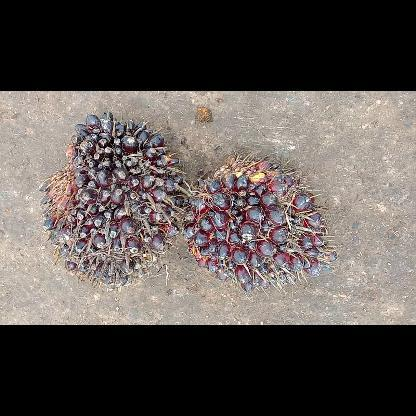TBS mentah: (38, 113, 186, 288), (190, 154, 340, 288)
